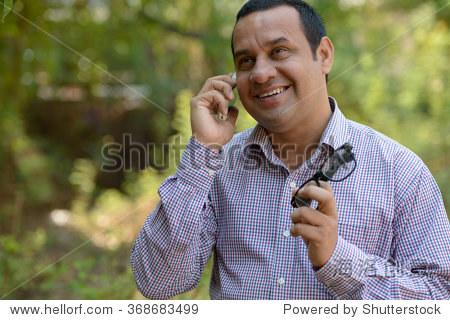phone: (203, 65, 243, 128)
talk: (189, 26, 313, 159)
